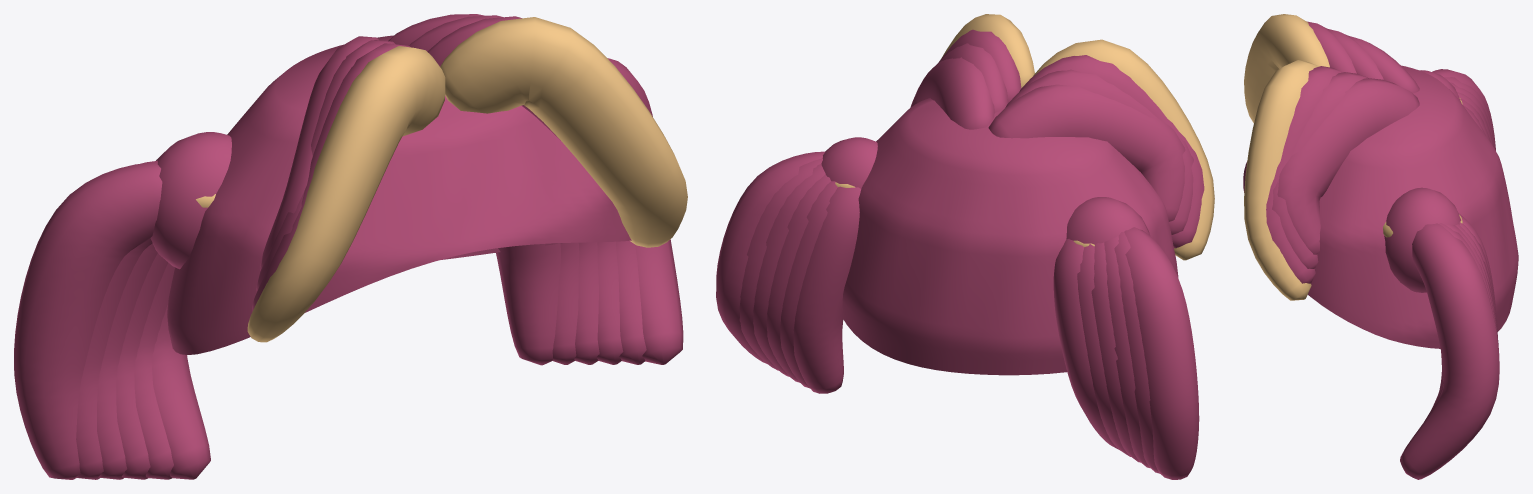
The model's file is studio_twin_pigtails_medium.glb.
3 renders of one model, left to right at view 1: azimuth 30°, elevation 25°; view 2: azimuth 150°, elevation 25°; view 3: azimuth 270°, elevation 25°, orthographic. The views are drawn at different scales.
Visible parts, largest first — view 1: twin_pigtails; view 2: twin_pigtails; view 3: twin_pigtails.
Boxes of the visible parts, bbox=[...] form: twin_pigtails: bbox=[14, 14, 687, 479]; twin_pigtails: bbox=[716, 14, 1214, 479]; twin_pigtails: bbox=[1243, 14, 1518, 479].
Size of the model in its own units: 0.7386 by 0.502 by 0.3744.
